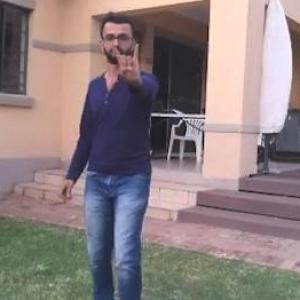takeoff-hand: (110, 32, 146, 83)
